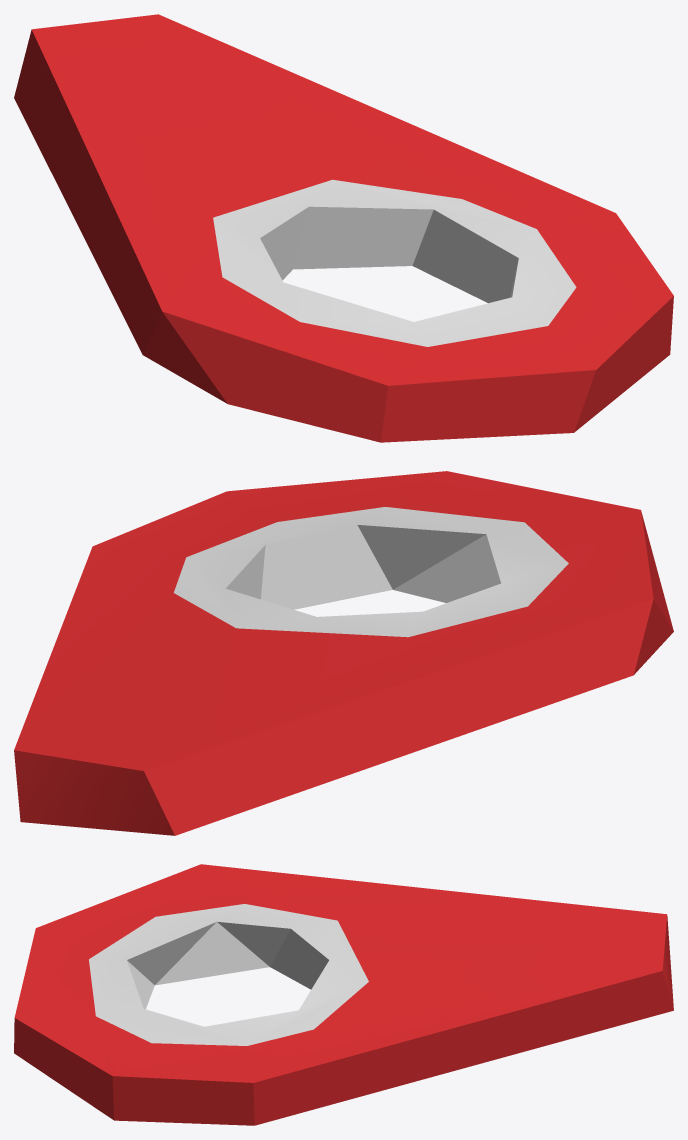
The model's file is Pin_1.glb.
The picture shows the model from 3 angles, top to bottom: view 1: azimuth 30°, elevation 25°; view 2: azimuth 150°, elevation 25°; view 3: azimuth 270°, elevation 25°; orthographic projection. The views are drawn at different scales.
Parts seen in each view (by area): view 1: Pin_1; view 2: Pin_1; view 3: Pin_1.
Part boxes in pixels (box(x1,y1,x2,y2)): Pin_1: box(14, 14, 673, 442); Pin_1: box(14, 471, 673, 835); Pin_1: box(14, 864, 673, 1125).
Size of the model in its own units: 0.2601 by 0.0667 by 0.3948.
